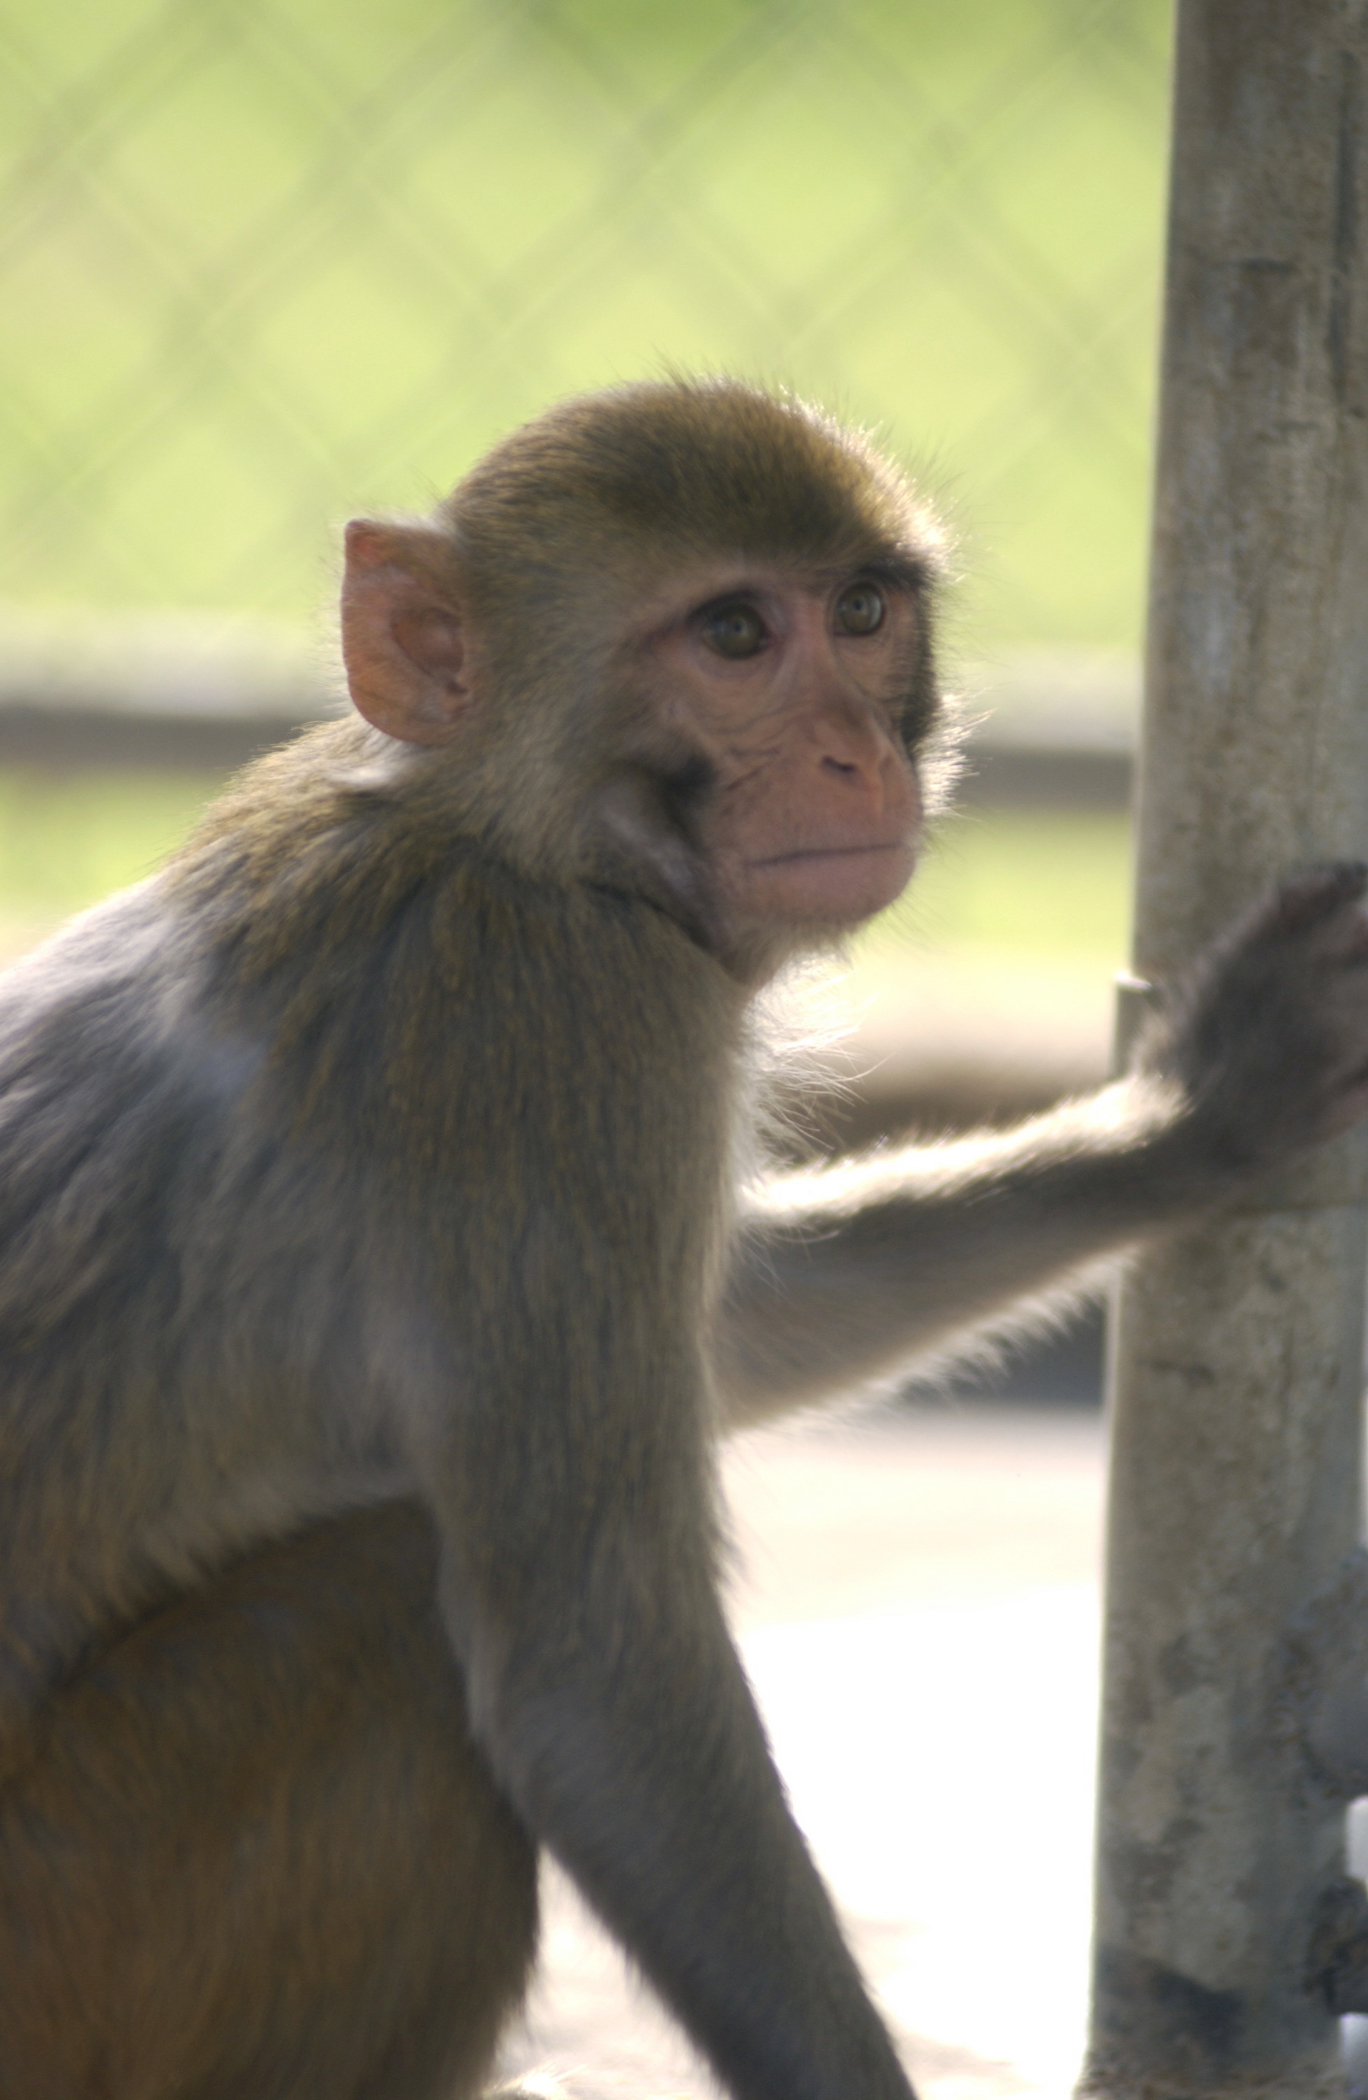monkey: (5, 373, 1368, 2100)
